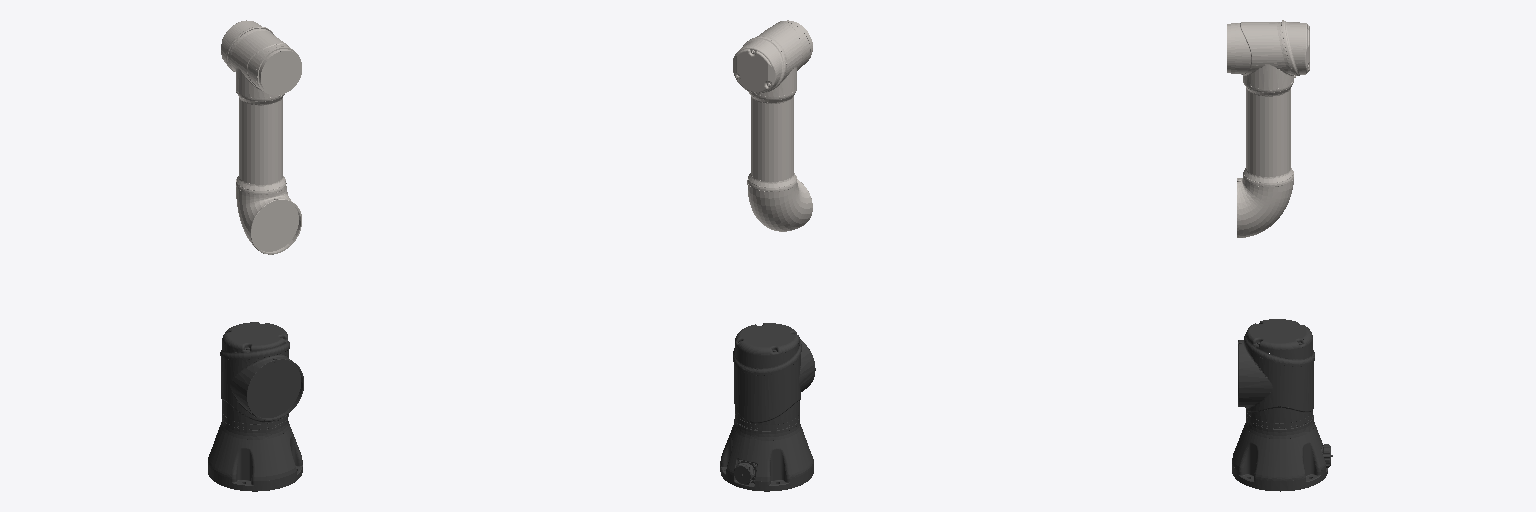
The robot description file, URDF, robot "aubo_i3":
<?xml version="1.0"?>
<robot name="aubo_i3">

  <link name="base_link">
    <inertial>
      <origin xyz="2.1698E-06 0.00017917 0.036984" rpy="0 1.5708 0" />
      <mass value="0.97332" />
      <inertia ixx="0.0015063" ixy="0" ixz="0" iyy="0.0014907" iyz="0" izz="0.0019063" />
    </inertial>
    <visual>
      <origin xyz="0 0 0" rpy="0 0 0" />
      <geometry>
        <mesh filename="package://aubo_description/meshes/aubo_i3/visual/base_link.DAE" />
      </geometry>
      <material name="">
        <color rgba="0.29804 0.29804 0.29804 1" />
      </material>
    </visual>
    <collision>
      <origin  xyz="0 0 0"  rpy="0 0 0" />
      <geometry>
        <mesh filename="package://aubo_description/meshes/aubo_i3/collision/base_link.STL" />
      </geometry>
    </collision>
  </link>

  <link name="shoulder_Link">
    <inertial>
      <origin xyz="-2.9523E-07 0.0037104 -0.0023315" rpy="0 0 0" />
      <mass value="1.173" />
      <inertia ixx="0.0026259" ixy="0" ixz="0" iyy="0.0025333" iyz="0" izz="0.0016014" />
    </inertial>
    <visual>
      <origin xyz="0 0 0" rpy="0 0 0" />
      <geometry>
        <mesh filename="package://aubo_description/meshes/aubo_i3/visual/shoulder_Link.DAE" />
      </geometry>
      <material name="">
        <color rgba="0.29804 0.29804 0.29804 1" />
      </material>
    </visual>
    <collision>
      <origin xyz="0 0 0" rpy="0 0 0" />
      <geometry>
        <mesh filename="package://aubo_description/meshes/aubo_i3/collision/shoulder_Link.STL" />
      </geometry>
    </collision>
  </link>

  <joint name="shoulder_joint" type="revolute">
    <origin xyz="0 0 0.157" rpy="0 0 3.1416" />
    <parent link="base_link" />
    <child link="shoulder_Link" />
    <axis xyz="0 0 1" />
    <limit lower="-3.04" upper="3.04" effort="0" velocity="0" />
  </joint>

  <link name="upperArm_Link">
    <inertial>
      <origin xyz="0.1186 1.7713E-06 0.0063972" rpy="0 0 0" />
      <mass value="2.7791" />
      <inertia ixx="0.0046752" ixy="0" ixz="0.00015757" iyy="0.040156" iyz="0" izz="0.038401" />
    </inertial>
    <visual>
      <origin  xyz="0 0 0" rpy="0 0 0" />
      <geometry>
        <mesh filename="package://aubo_description/meshes/aubo_i3/visual/upperArm_Link.DAE" />
      </geometry>
      <material name="">
        <color rgba="0.29804 0.29804 0.29804 1" />
      </material>
    </visual>
    <collision>
      <origin xyz="0 0 0" rpy="0 0 0" />
      <geometry>
        <mesh filename="package://aubo_description/meshes/aubo_i3/collision/upperArm_Link.STL" />
      </geometry>
    </collision>
  </link>

  <joint name="upperArm_joint" type="revolute">
    <origin xyz="0 0.119 0" rpy="-1.5708 -1.5708 0" />
    <parent link="shoulder_Link" />
    <child link="upperArm_Link" />
    <axis xyz="0 0 1" />
    <limit lower="-3.04" upper="3.04" effort="0" velocity="0" />
  </joint>

  <link name="foreArm_Link">
    <inertial>
      <origin xyz="0.15095 3.6355E-05 0.1001" rpy="0 0 0" />
      <mass value="1.5214" />
      <inertia ixx="0.0014873" ixy="0" ixz="-0.00055006" iyy="0.016144" iyz="0" izz="0.015711" />
    </inertial>
    <visual>
      <origin xyz="0 0 0" rpy="0 0 0" />
      <geometry>
        <mesh filename="package://aubo_description/meshes/aubo_i3/visual/foreArm_Link.DAE" />
      </geometry>
      <material name="">
        <color rgba="0.77647 0.75686 0.73725 1" />
      </material>
    </visual>
    <collision>
      <origin xyz="0 0 0" rpy="0 0 0" />
      <geometry>
        <mesh filename="package://aubo_description/meshes/aubo_i3/collision/foreArm_Link.STL" />
      </geometry>
    </collision>
  </link>

  <joint name="foreArm_joint" type="revolute">
    <origin xyz="0.266 0 0" rpy="3.1416 0 0" />
    <parent link="upperArm_Link" />
    <child link="foreArm_Link" />
    <axis xyz="0 0 1" />
    <limit lower="-3.04" upper="3.04" effort="0" velocity="0" />
  </joint>

  <link name="wrist1_Link">
    <inertial>
      <origin xyz="-7.0582E-05 -0.0015345 -0.0029597" rpy="0 0 0" />
      <mass value="0.63348" />
      <inertia ixx="0.0009362" ixy="0" ixz="0" iyy="0.00051333" iyz="0" izz="0.00090515" />
    </inertial>
    <visual>
      <origin xyz="0 0 0" rpy="0 0 0" />
      <geometry>
        <mesh filename="package://aubo_description/meshes/aubo_i3/visual/wrist1_Link.DAE" />
      </geometry>
      <material name="">
        <color rgba="0.79216 0.81961 0.93333 1" />
      </material>
    </visual>
    <collision>
      <origin xyz="0 0 0" rpy="0 0 0" />
      <geometry>
        <mesh filename="package://aubo_description/meshes/aubo_i3/collision/wrist1_Link.STL" />
      </geometry>
    </collision>
  </link>

  <joint name="wrist1_joint" type="revolute">
    <origin xyz="0.2565 0 0" rpy="3.1416 0 1.5708" />
    <parent link="foreArm_Link" />
    <child link="wrist1_Link" />
    <axis xyz="0 0 -1" />
    <limit lower="-3.04" upper="3.04" effort="0" velocity="0" />
  </joint>

  <link name="wrist2_Link">
    <inertial>
      <origin xyz="7.0582E-05 0.0015345 -0.0029597" rpy="0 0 0" />
      <mass value="0.63348" />
      <inertia ixx="0.0009362" ixy="0" ixz="0" iyy="0.00051333" iyz="7.4602E-06" izz="0.00090515" />
    </inertial>
    <visual>
      <origin xyz="0 0 0" rpy="0 0 0" />
      <geometry>
        <mesh filename="package://aubo_description/meshes/aubo_i3/visual/wrist2_Link.DAE" />
      </geometry>
      <material name="">
        <color rgba="0.79216 0.81961 0.93333 1" />
      </material>
    </visual>
    <collision>
      <origin xyz="0 0 0" rpy="0 0 0" />
      <geometry>
        <mesh filename="package://aubo_description/meshes/aubo_i3/collision/wrist2_Link.STL" />
      </geometry>
    </collision>
  </link>

  <joint name="wrist2_joint" type="revolute">
    <origin xyz="0 0.1025 0" rpy="-1.5708 0 0" />
    <parent link="wrist1_Link" />
    <child  link="wrist2_Link" />
    <axis xyz="0 0 1" />
    <limit lower="-3.04" upper="3.04" effort="0" velocity="0" />
  </joint>

  <link name="wrist3_Link">
    <inertial>
      <origin xyz="8.8789E-10 0.00040506 -0.01865" rpy="0 0 0" />
      <mass value="0.13713" />
      <inertia ixx="6.1911E-05" ixy="0"  ixz="0" iyy="5.9471E-05" iyz="2.8126E-07" izz="9.7957E-05" />
    </inertial>
    <visual>
      <origin xyz="0 0 0" rpy="0 0 0" />
      <geometry>
        <mesh filename="package://aubo_description/meshes/aubo_i3/visual/wrist3_Link.DAE" />
      </geometry>
      <material name="">
        <color rgba="0.25098 0.25098 0.25098 1" />
      </material>
    </visual>
    <collision>
      <origin  xyz="0 0 0" rpy="0 0 0" />
      <geometry>
        <mesh filename="package://aubo_description/meshes/aubo_i3/collision/wrist3_Link.STL" />
      </geometry>
    </collision>
  </link>

  <joint name="wrist3_joint" type="revolute">
    <origin xyz="0 -0.094 0" rpy="1.5708 0 0" />
    <parent link="wrist2_Link" />
    <child link="wrist3_Link" />
    <axis xyz="0 0 -1" />
    <limit lower="-3.04" upper="3.04" effort="0" velocity="0" />
  </joint>

  <link name="world" />

  <joint name="world_joint" type="fixed">
    <parent link="world" />
    <child link = "base_link" />
    <origin xyz="0.0 0.0 0.0" rpy="0.0 0.0 0.0" />
  </joint>
</robot>

--- What the picture shows (computed from the rendered views, not written in the file) ---
The picture shows the robot from 3 angles, left to right: view 1: azimuth 30°, elevation 25°; view 2: azimuth 150°, elevation 25°; view 3: azimuth 270°, elevation 25°; orthographic projection.
Model aubo_i3 with 8 links and 7 joints (6 revolute, 1 fixed), rooted at world, posed every joint at zero.
Visible links, largest first — view 1: foreArm_Link, shoulder_Link, base_link; view 2: foreArm_Link, shoulder_Link, base_link; view 3: foreArm_Link, shoulder_Link, base_link.
Link boxes in pixels (bbox=[...]): foreArm_Link: bbox=[221, 20, 301, 254]; shoulder_Link: bbox=[220, 322, 303, 429]; base_link: bbox=[208, 418, 302, 491]; foreArm_Link: bbox=[733, 20, 812, 231]; shoulder_Link: bbox=[733, 323, 815, 430]; base_link: bbox=[720, 419, 813, 491]; foreArm_Link: bbox=[1227, 20, 1309, 237]; shoulder_Link: bbox=[1238, 319, 1314, 428]; base_link: bbox=[1232, 415, 1332, 491].
Bounding box of the posed robot: 0.14 × 0.1542 × 0.7201 m (x, y, z).
3 mesh visuals loaded from 7 distinct referenced files (3 Collada DAE); not drawn: 4 (reference not matched to a file when rendering).